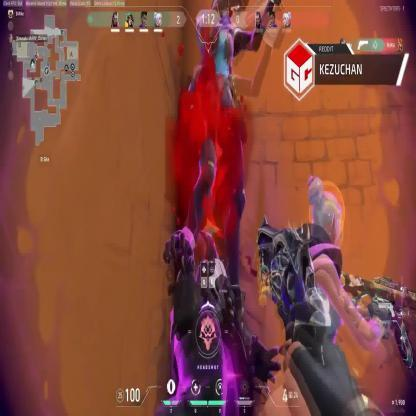enemy: (257, 172, 386, 416), (186, 0, 276, 305)
enemy_head: (306, 175, 346, 243), (214, 0, 236, 29)
